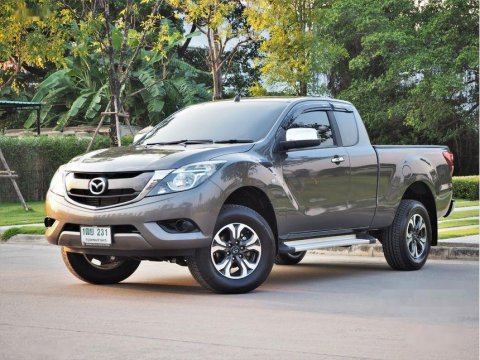pickup: (43, 94, 456, 297)
